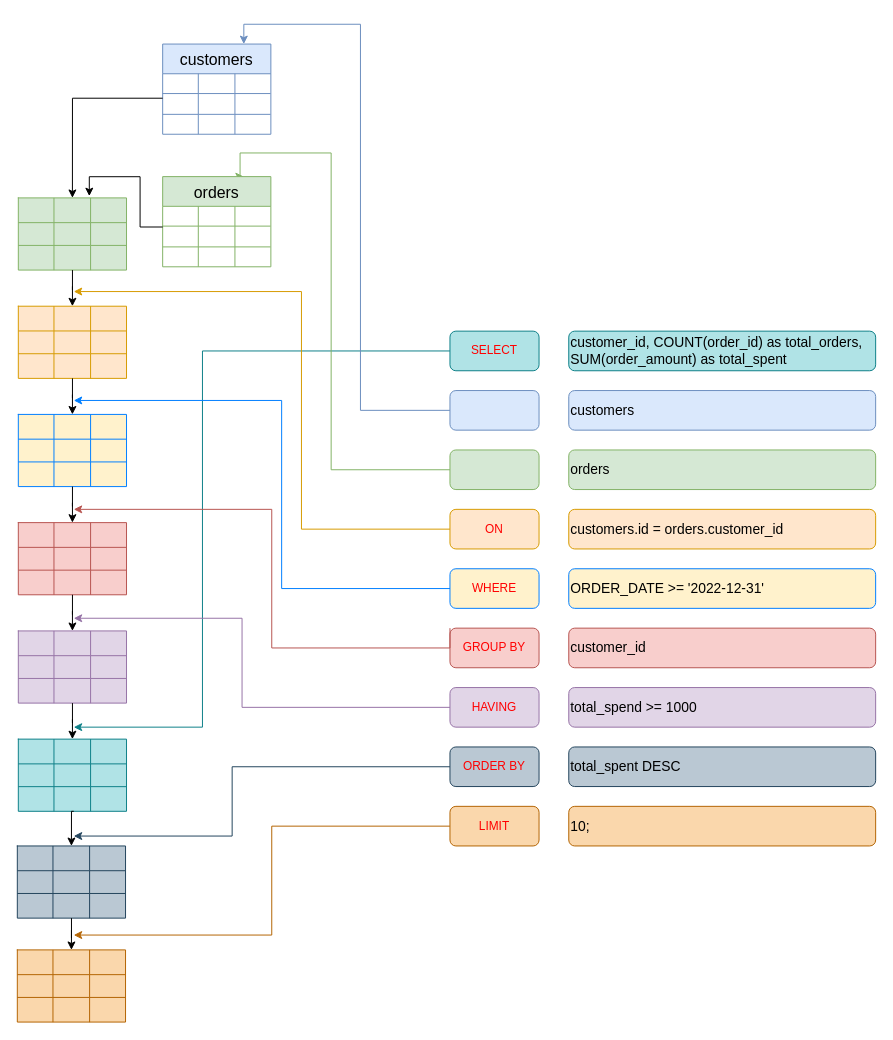
The diagram is 893 pixels wide and 1040 high, and some of its shapes have lost their labels. Here are the shapes that lost their labels. From the top down, the centre of each, then its label:
At point (494, 410): "FROM".
At point (494, 469): "JOIN".
